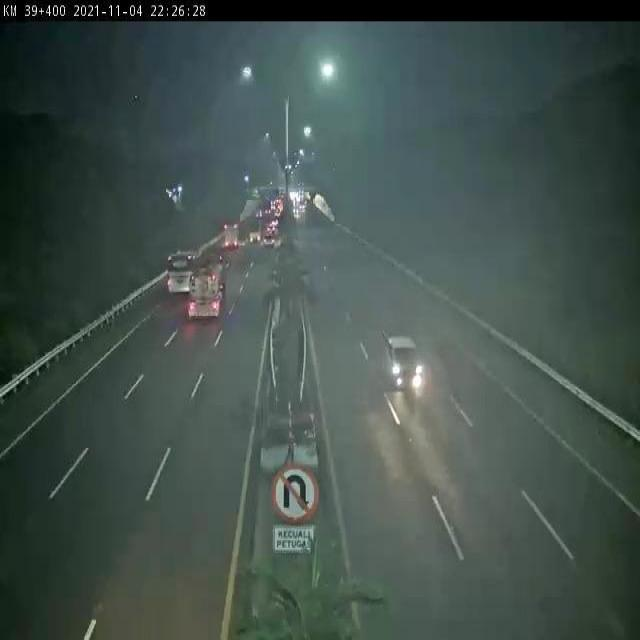bus-l-: (164, 248, 195, 299)
car: (379, 324, 440, 400), (262, 234, 277, 247)
truck-l-: (221, 219, 244, 252)
truck-m-: (247, 217, 263, 247)
truck-xl-: (187, 256, 232, 321)
